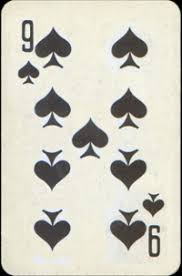nine of spades: (4, 4, 182, 274)
